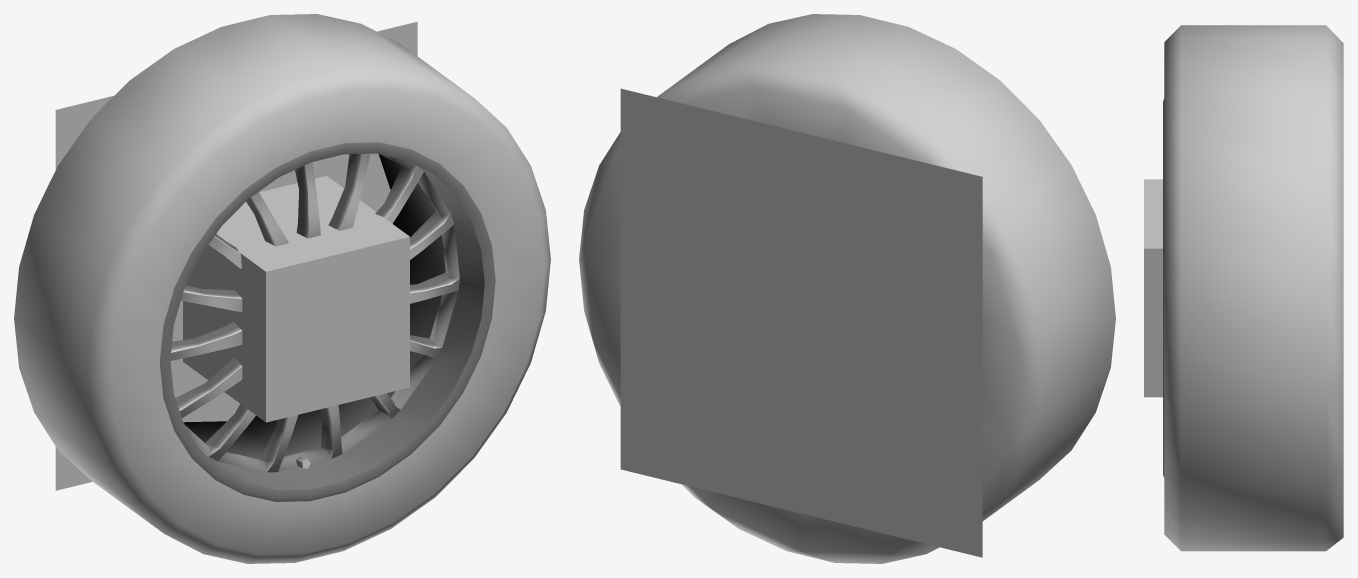
3 renders of one model, left to right at view 1: azimuth 30°, elevation 25°; view 2: azimuth 150°, elevation 25°; view 3: azimuth 270°, elevation 25°, orthographic.
Visible parts, largest first — view 1: WORK_STYLE04_17_25_A, _FRONT_BRAKE_1; view 2: WORK_STYLE04_17_25_A; view 3: WORK_STYLE04_17_25_A, _FRONT_BRAKE_1.
Part boxes in pixels (box(x1,y1,x2,y2)): WORK_STYLE04_17_25_A: box(14, 14, 550, 563); _FRONT_BRAKE_1: box(183, 176, 409, 422); WORK_STYLE04_17_25_A: box(579, 14, 1115, 563); WORK_STYLE04_17_25_A: box(1163, 25, 1343, 551); _FRONT_BRAKE_1: box(1144, 179, 1162, 397).
Size of the model in its own units: 0.6434 by 0.2436 by 0.6399.
